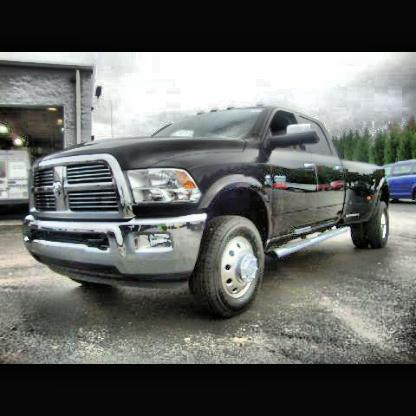Dodge Ram Pickup 3500 Crew Cab 2010: (22, 106, 391, 318)
